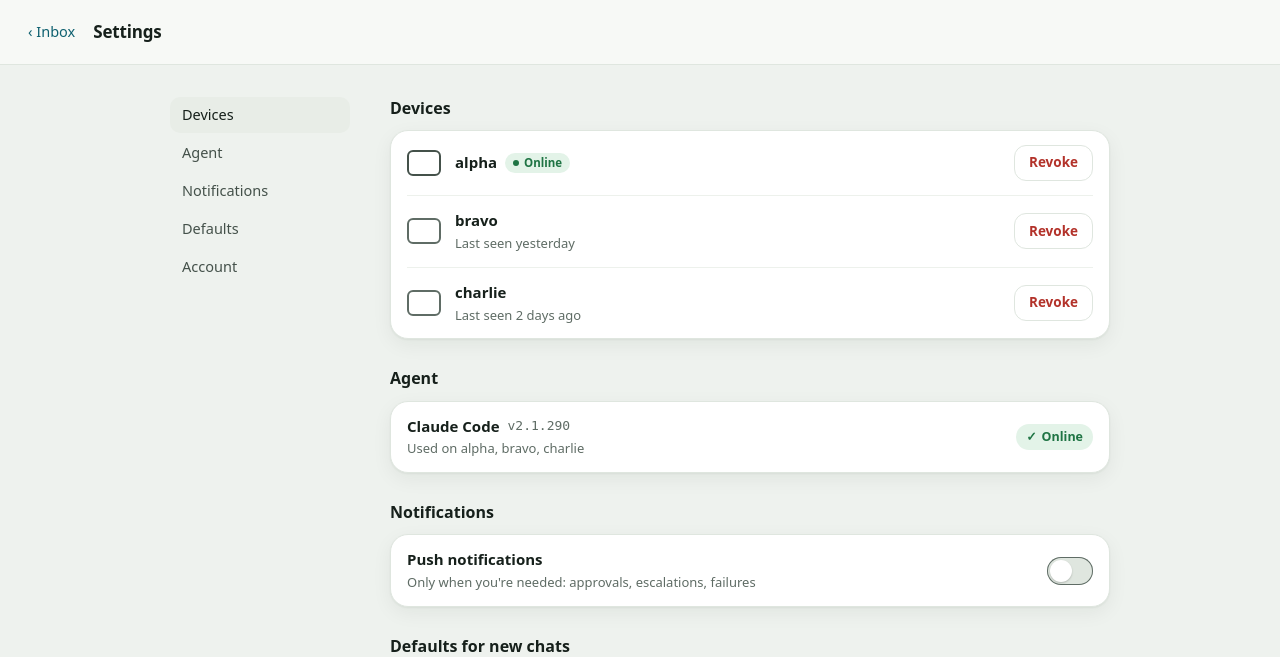
Scenario: Devices (handoff §7) › moves focus to the next computer's Revoke after a revoke, else the previous one, else the section heading
Click the button with aria-label "Revoke bravo" at (1054, 232), box [1014,214,1093,250]
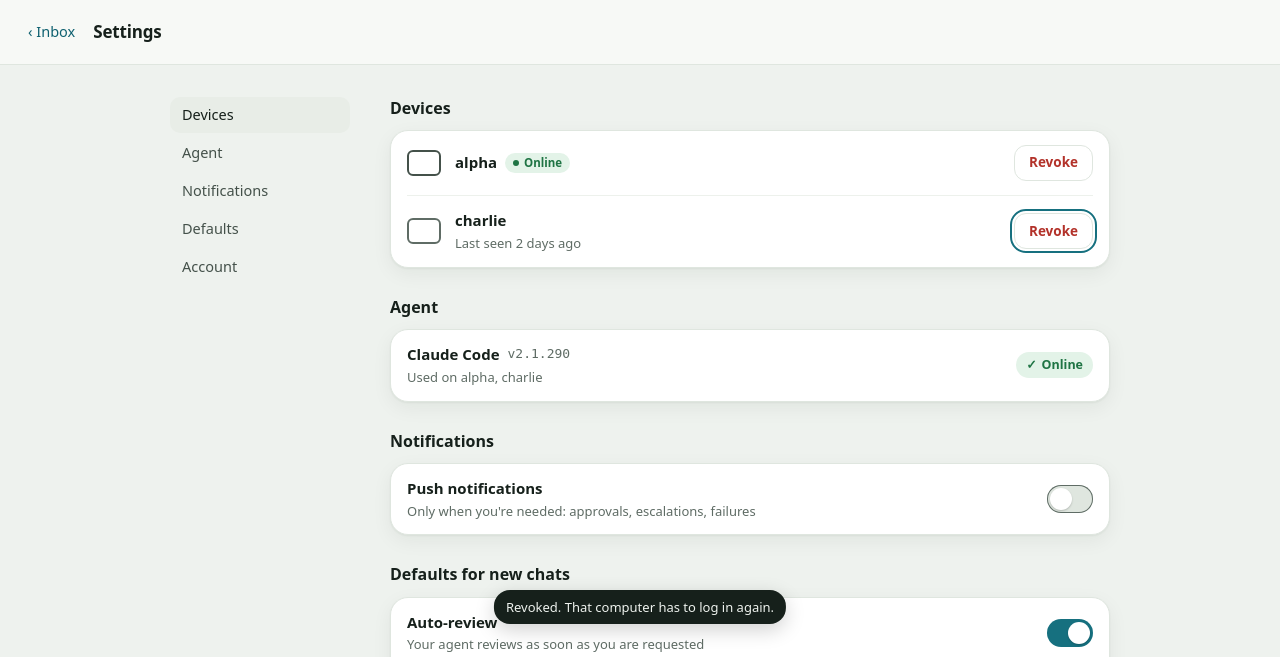
Now the text "bravo" is gone
Click the button with aria-label "Revoke charlie" at (1054, 232), box [1014,214,1093,250]
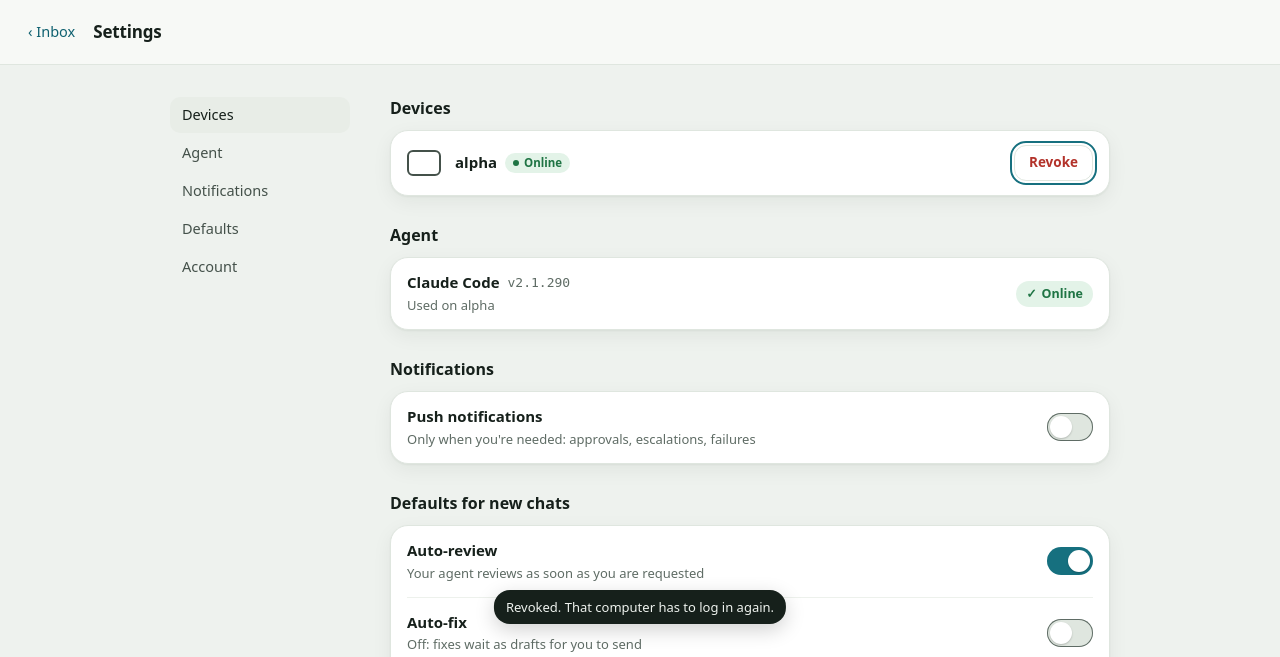
Now the text "charlie" is gone
Click the button with aria-label "Revoke alpha" at (1054, 163), box [1014,145,1093,181]
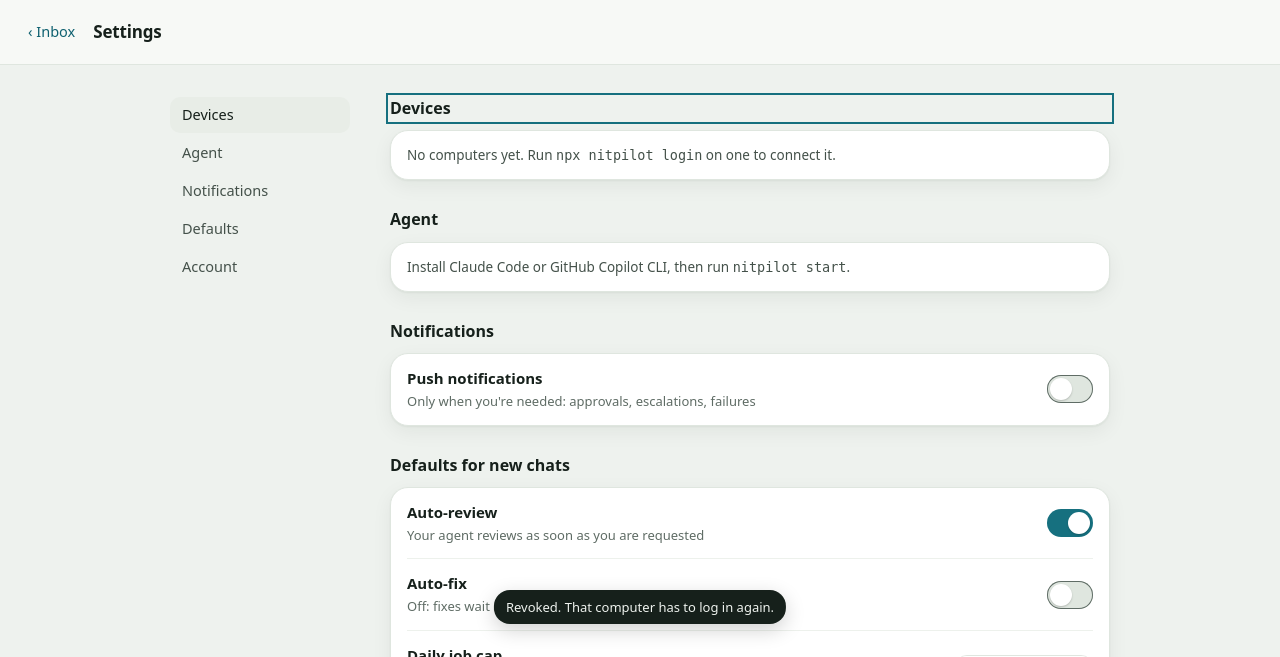
Now the text "alpha" is gone
